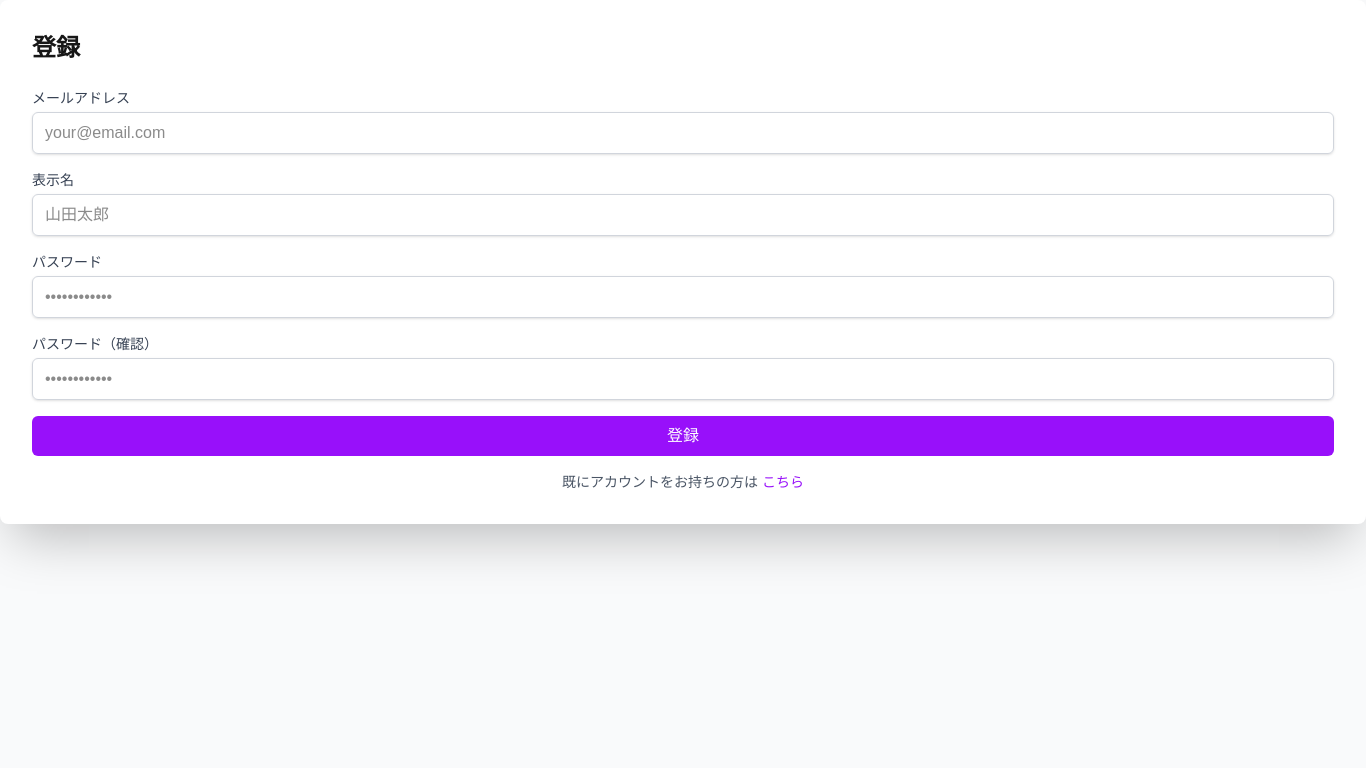
it: RegisterPageClient › バリデーション › メールアドレスが空の場合エラーが表示される
In the field labelled "表示名": (683, 215) [32,194,1334,236], type "テストユーザー"
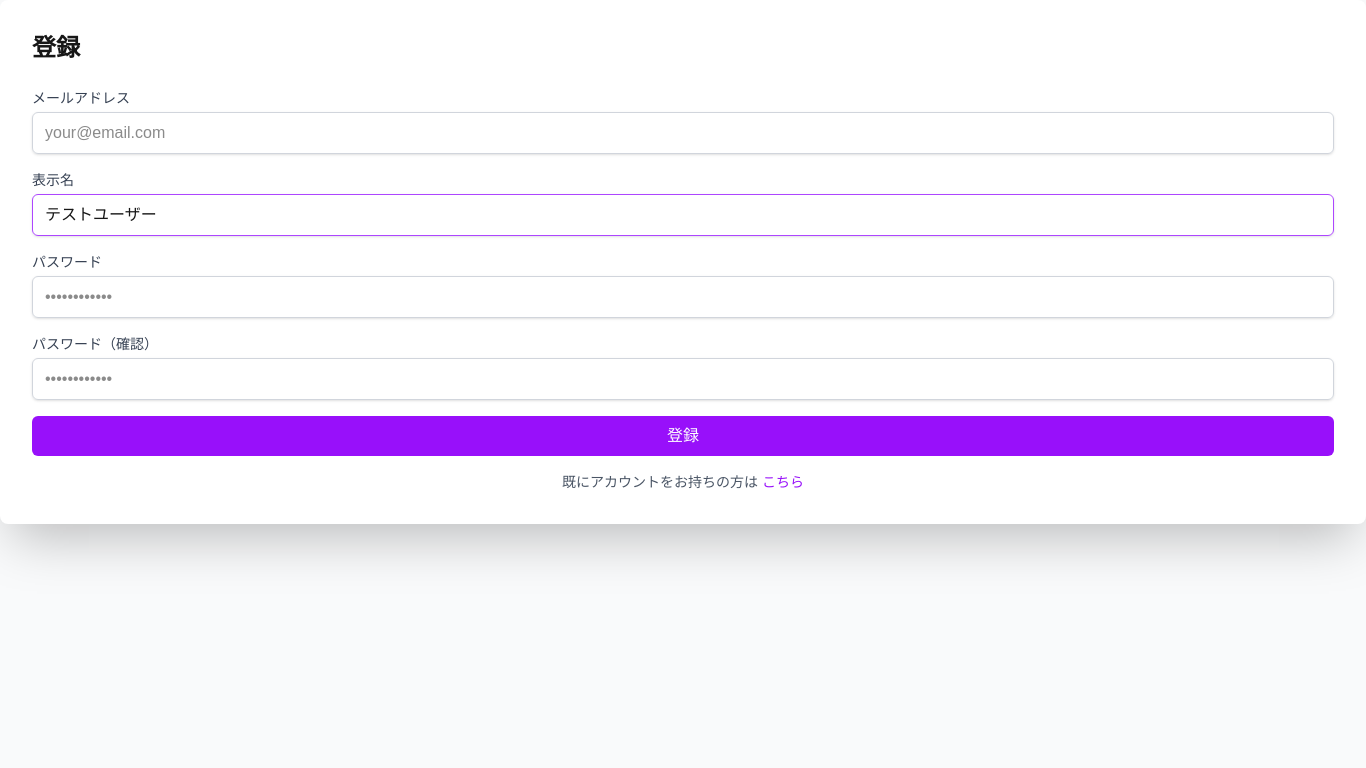
In the password field labelled "パスワード": (683, 297) [32,276,1334,318], type "password123"
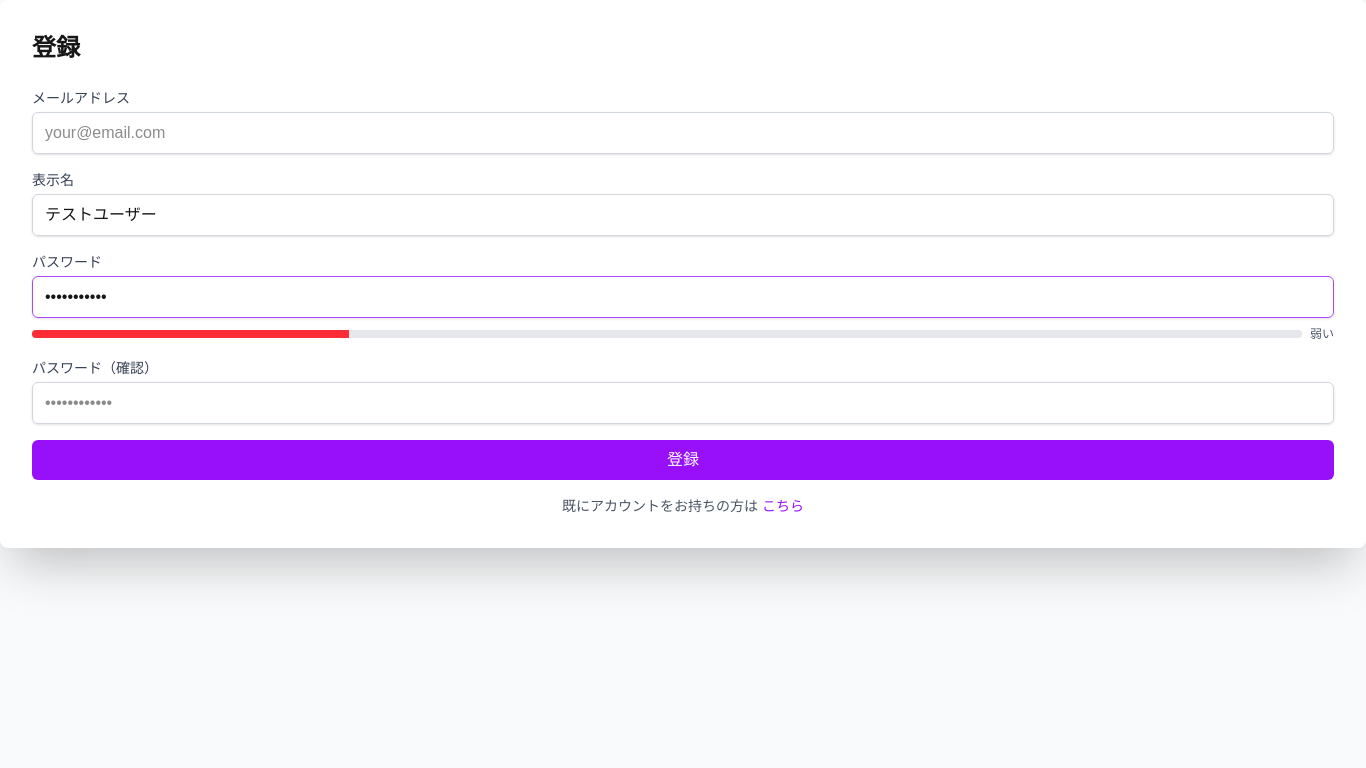
In the password field labelled "パスワード（確認）": (683, 403) [32,382,1334,424], type "password123"
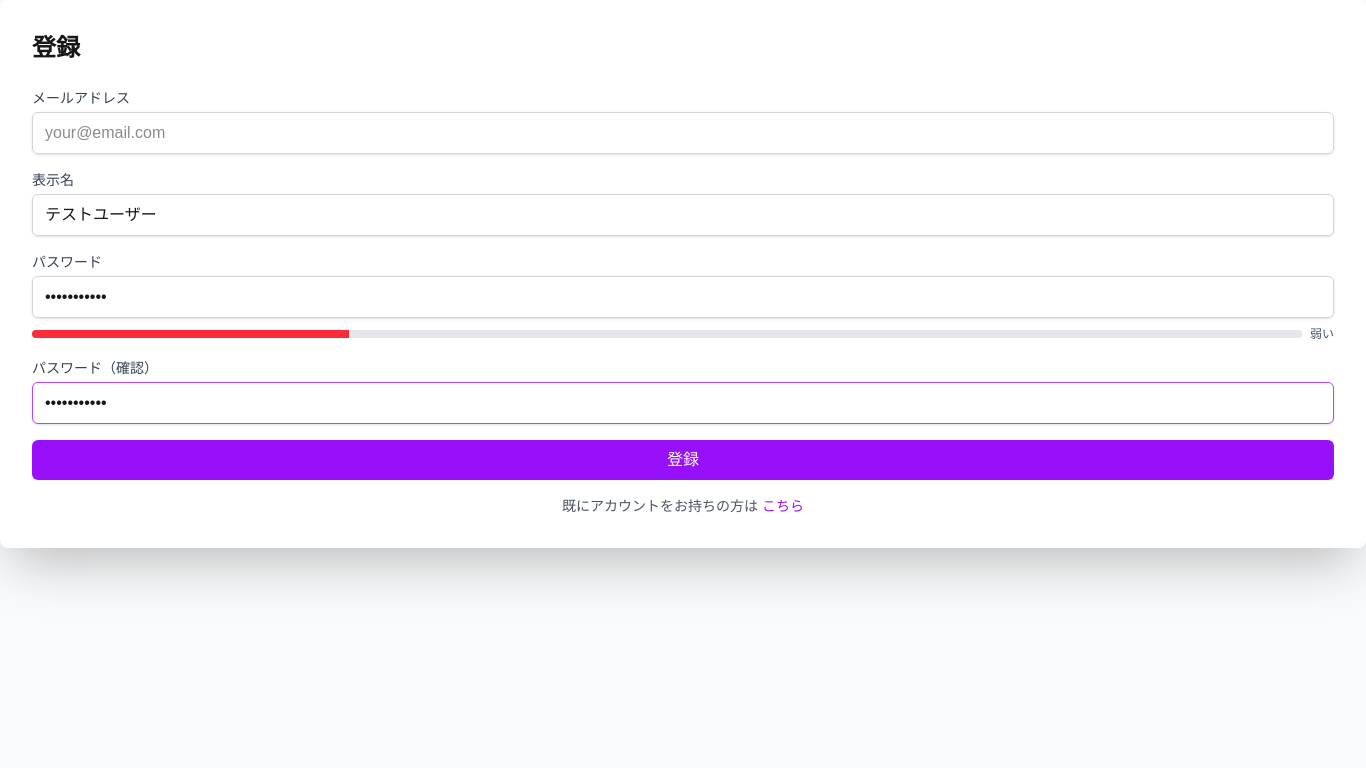
Click the button "登録": (683, 460) [32,440,1334,480]
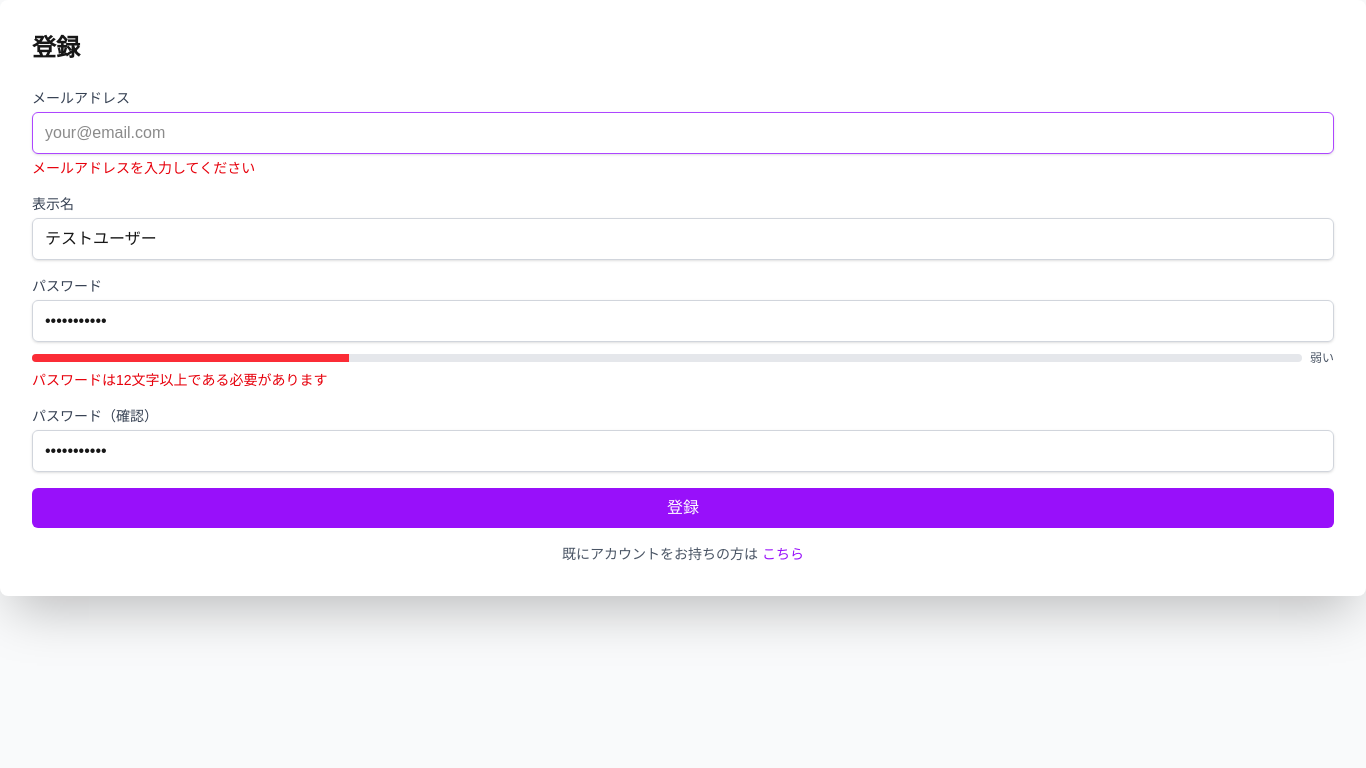
Now the text "メールアドレスを入力してください" is shown, box [32,160,255,176]
